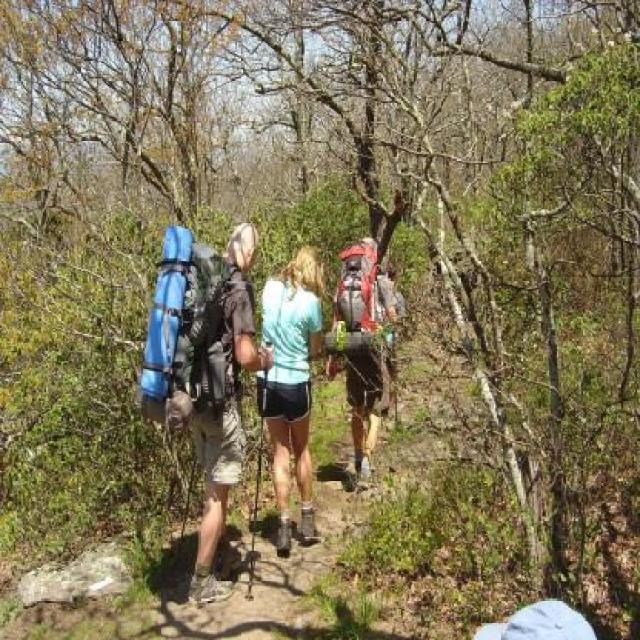backpack: (130, 225, 228, 432), (336, 240, 382, 337)
